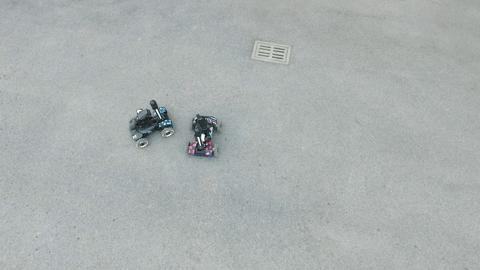chariot: (125, 100, 176, 147), (185, 111, 221, 159)
